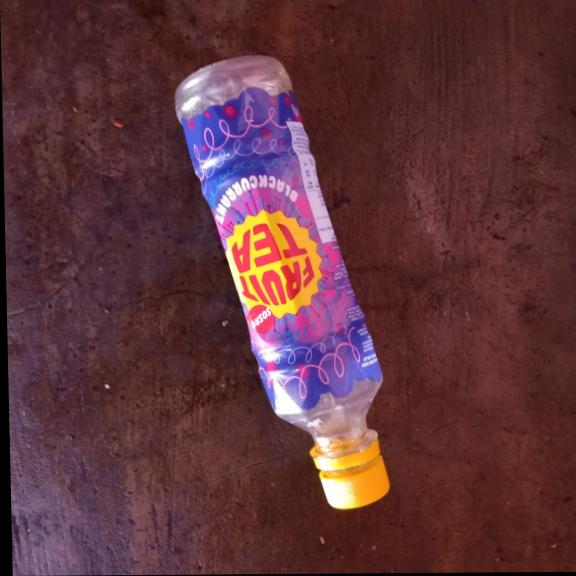Plastik: (171, 54, 387, 510)
